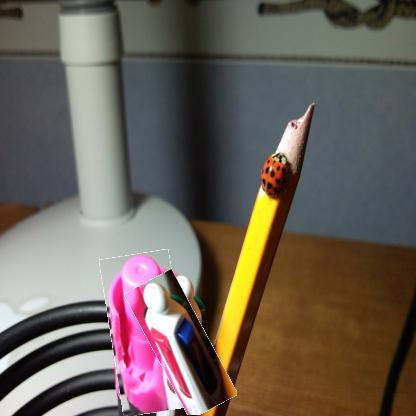Pen: (105, 251, 187, 414), (139, 270, 223, 415)
